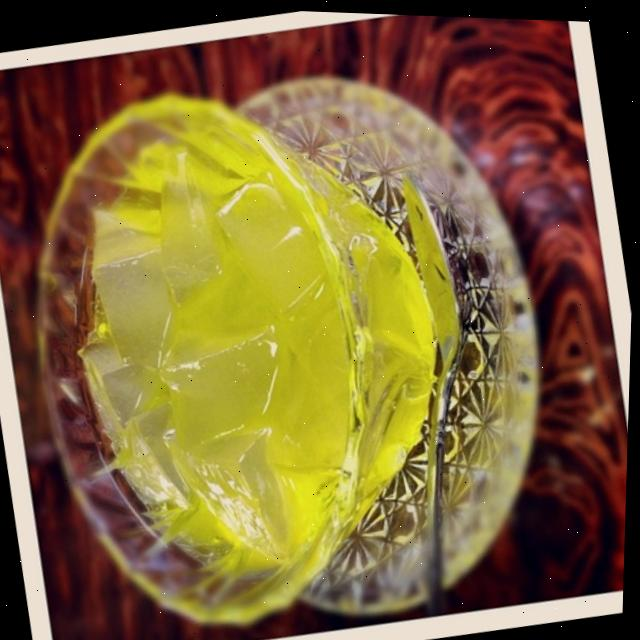蛋糕甜品: (0, 40, 478, 640)
